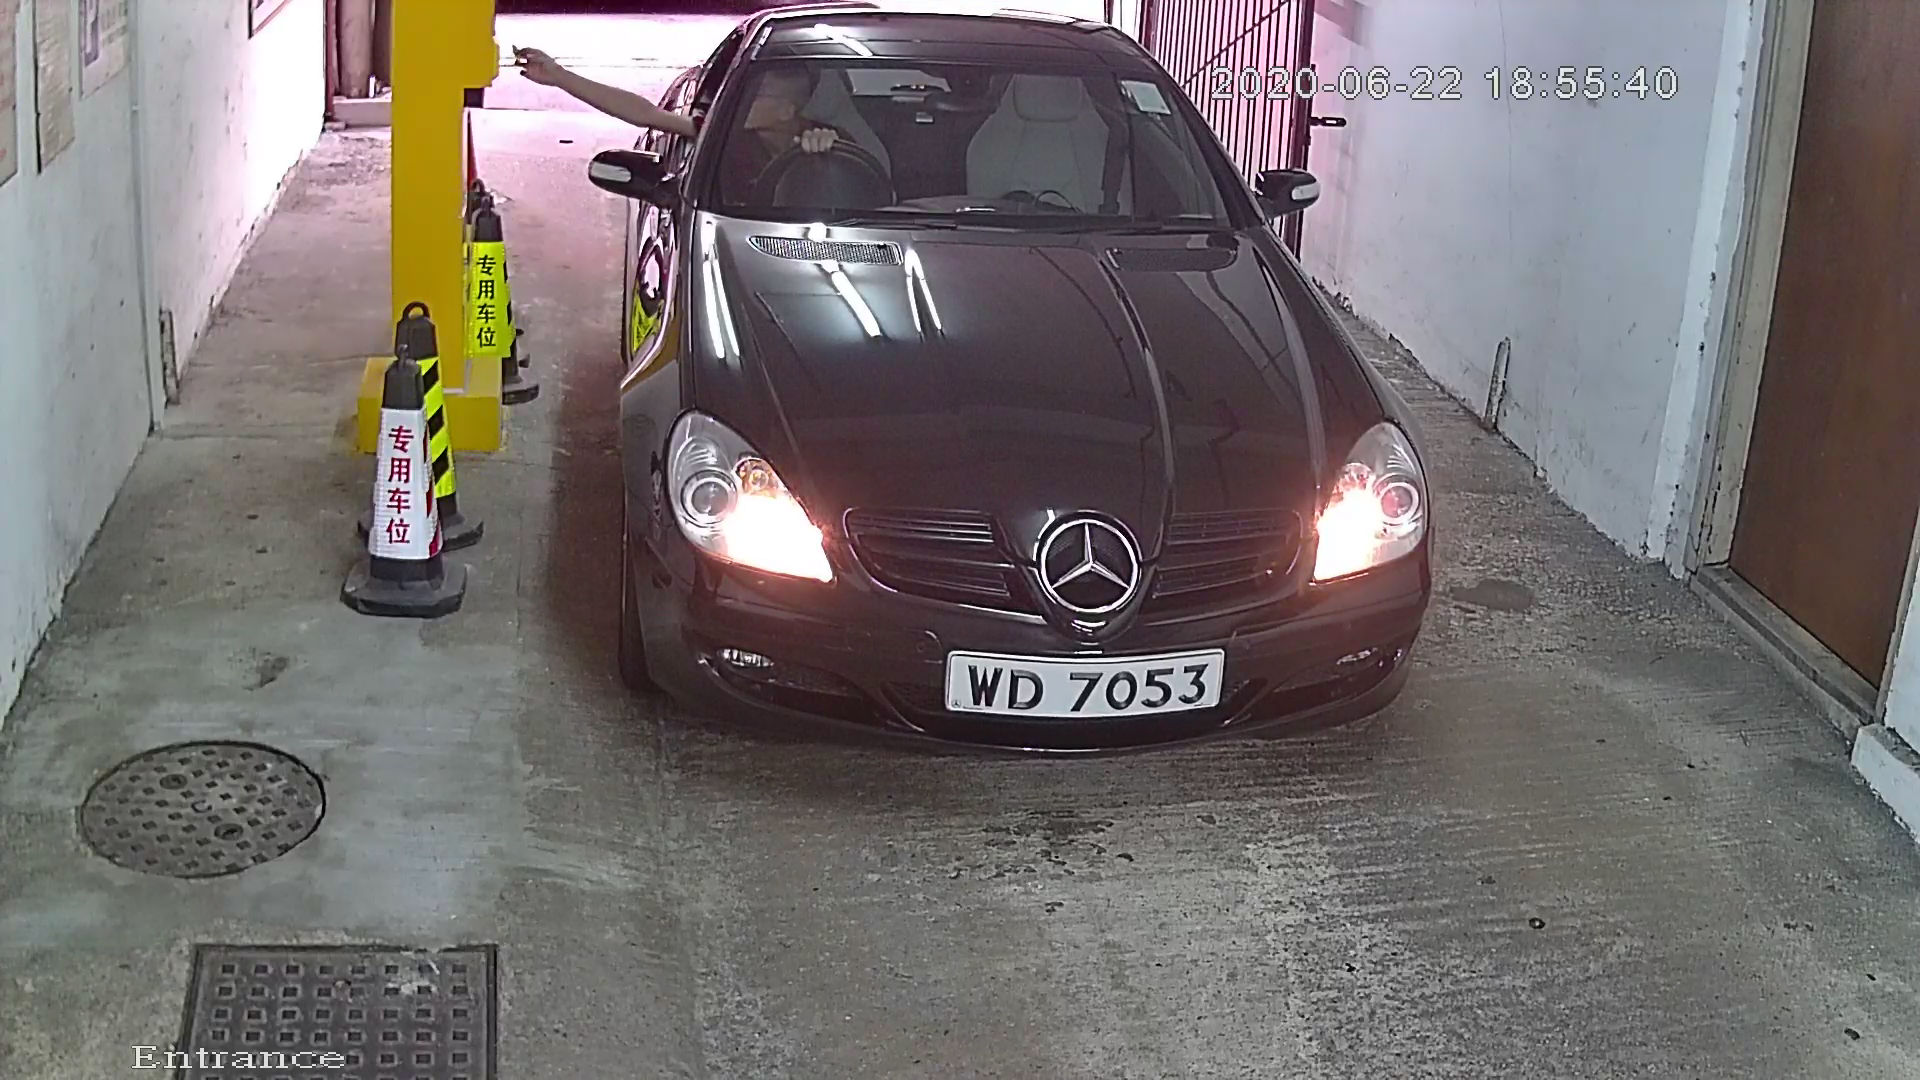privatecar: (545, 1, 1567, 855)
